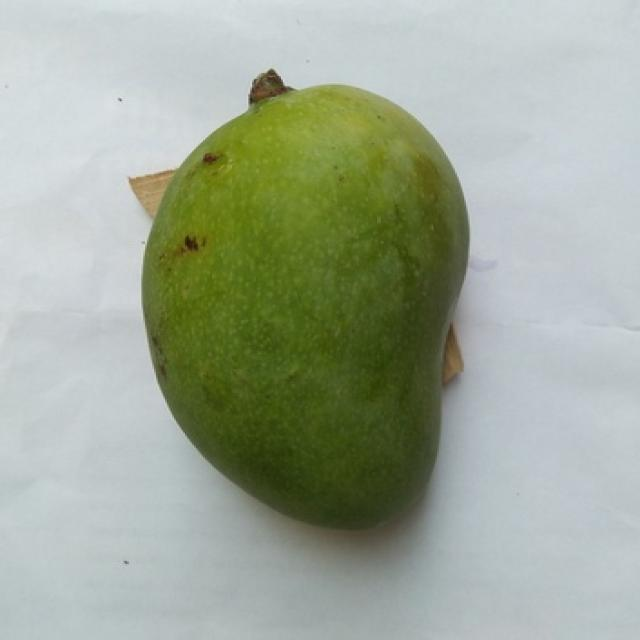Mango: (141, 86, 466, 528)
